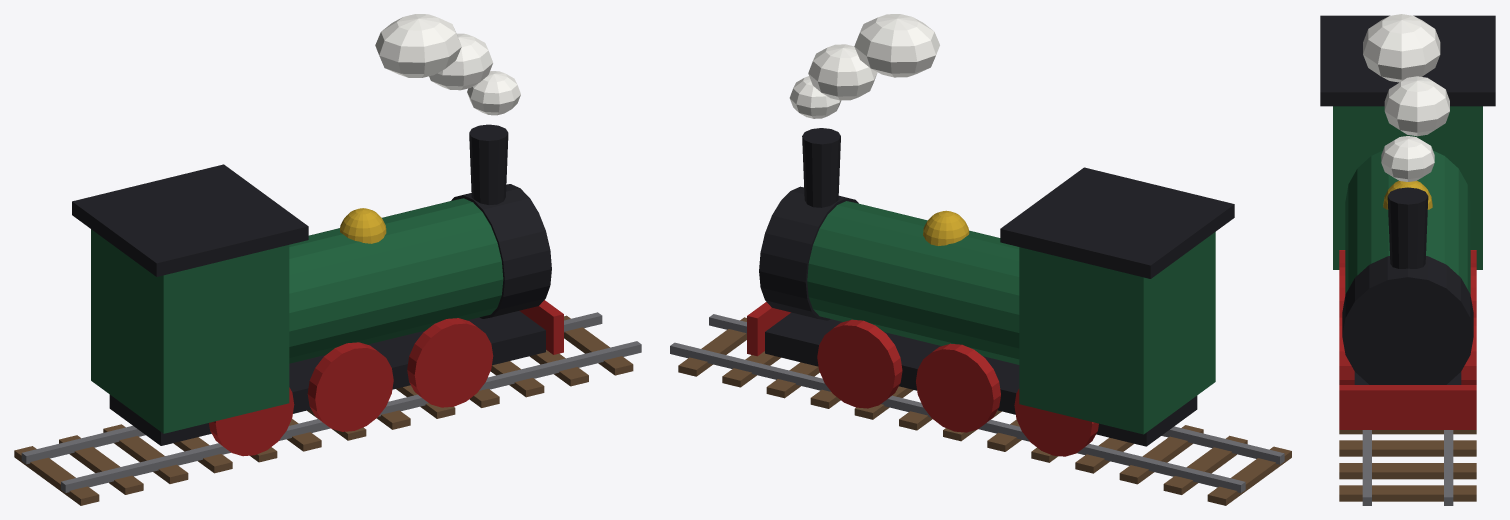
File: locomotive-green.glb
3 renders of one model, left to right at view 1: azimuth 30°, elevation 25°; view 2: azimuth 150°, elevation 25°; view 3: azimuth 270°, elevation 25°, orthographic. The views are drawn at different scales.
Size of the model in its own units: 2.2 by 1.37 by 0.56.
